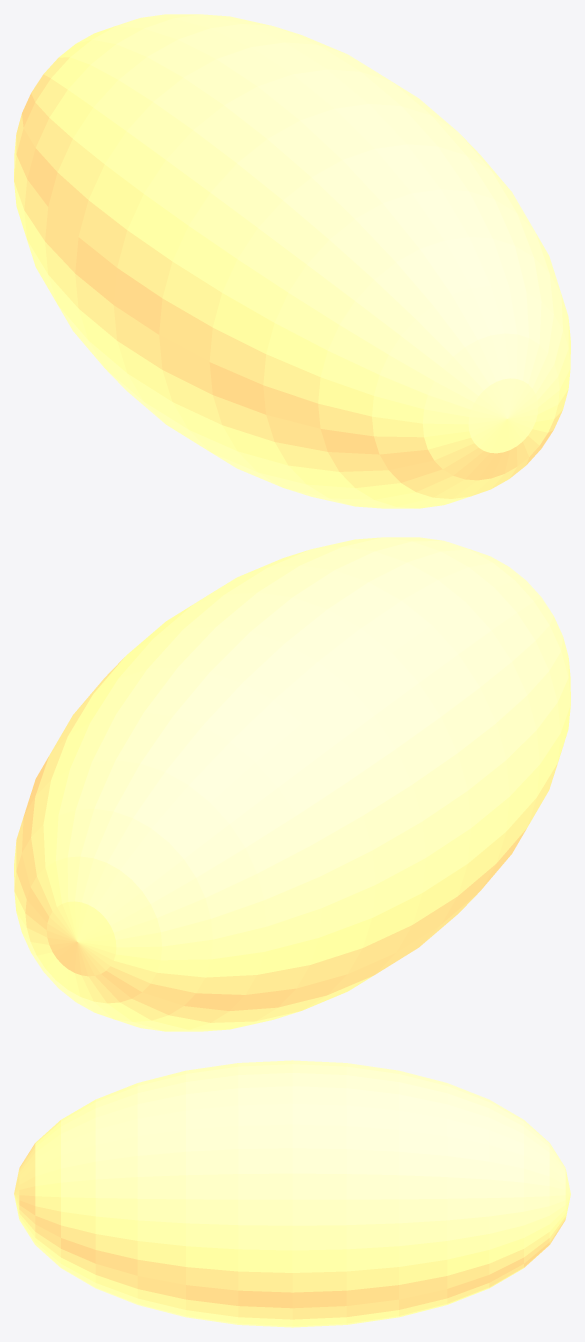
File: pickup_missile.glb
3 renders of one model, top to bottom at view 1: azimuth 30°, elevation 25°; view 2: azimuth 150°, elevation 25°; view 3: azimuth 270°, elevation 25°, orthographic. The views are drawn at different scales.
Parts seen in each view (by area): view 1: missile; view 2: missile; view 3: missile.
Part boxes in pixels (left/top/right/bottom): missile: left=14, top=14, right=570, bottom=508; missile: left=14, top=537, right=570, bottom=1031; missile: left=14, top=1060, right=570, bottom=1327.
Size of the model in its own units: 0.24 by 0.24 by 0.5.
